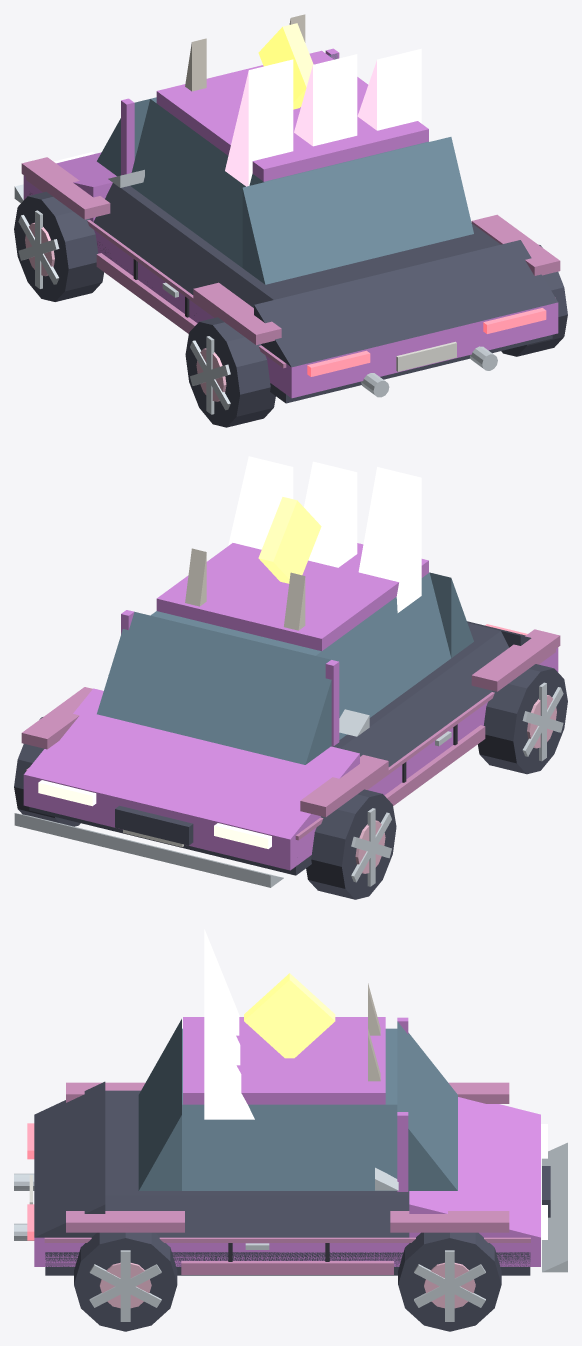
Rendered from mermaid_motor.glb.
The picture shows the model from 3 angles, top to bottom: view 1: azimuth 30°, elevation 25°; view 2: azimuth 150°, elevation 25°; view 3: azimuth 270°, elevation 25°; orthographic projection. The views are drawn at different scales.
Visible parts, largest first — view 1: RearWindow.225, Tail.127, CabinSideL.122, Roof.325, Body.325, ShoulderL.122, Crystal0.008, Wheel_RL.265, Wheel_FL.265, BodyUpper.122, Crystal1.008, Crystal2.008 (+17 smaller); view 2: Windshield.225, Nose.122, Roof.325, CabinSideL.122, Body.325, ShoulderL.122, Crystal0.008, Wheel_FL.265, Wheel_RL.265, Crystal1.008, Crystal2.008, Bumper.321 (+20 smaller); view 3: CabinSideR.122, Roof.325, Nose.122, ShoulderR.122, Tail.127, Windshield.225, Body.325, Wheel_RR.265, Wheel_FR.265, RearWindow.225, BodyUpper.122, Star.012 (+21 smaller).
Boxes of the visible parts, box(x1,y1,x2,y2) form: RearWindow.225: box(242, 137, 473, 284); Tail.127: box(254, 240, 557, 367); CabinSideL.122: box(130, 99, 263, 267); Roof.325: box(156, 50, 428, 181); Body.325: box(23, 175, 558, 398); ShoulderL.122: box(93, 183, 273, 307); Crystal0.008: box(225, 59, 293, 186); Wheel_RL.265: box(185, 317, 275, 427); Wheel_FL.265: box(14, 191, 103, 301); BodyUpper.122: box(121, 186, 500, 299); Crystal1.008: box(294, 54, 357, 146); Crystal2.008: box(357, 48, 421, 130); Windshield.225: box(97, 611, 331, 764); Nose.122: box(24, 688, 359, 839); Roof.325: box(156, 543, 428, 651); CabinSideL.122: box(316, 572, 450, 739); Body.325: box(23, 647, 558, 870); ShoulderL.122: box(340, 631, 509, 766); Crystal0.008: box(358, 467, 421, 612); Wheel_FL.265: box(306, 789, 396, 899); Wheel_RL.265: box(478, 664, 567, 774); Crystal1.008: box(304, 461, 357, 567); Crystal2.008: box(228, 456, 293, 549); Bumper.321: box(14, 813, 283, 887); CabinSideR.122: box(182, 1104, 397, 1190); Roof.325: box(183, 1017, 385, 1104); Nose.122: box(409, 1097, 540, 1237); ShoulderR.122: box(105, 1195, 409, 1237); Tail.127: box(34, 1081, 105, 1237); Windshield.225: box(397, 1021, 457, 1190); Body.325: box(34, 1237, 540, 1266); Wheel_RR.265: box(74, 1232, 177, 1331); Wheel_FR.265: box(398, 1232, 501, 1331); RearWindow.225: box(138, 1019, 181, 1190); BodyUpper.122: box(105, 1090, 409, 1195); Star.012: box(244, 973, 335, 1058).
Bounding box in the file's own units: 3.4 × 2.95 × 5.14.
